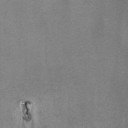slag inclusion: (22, 100, 32, 122), (38, 110, 42, 116)
